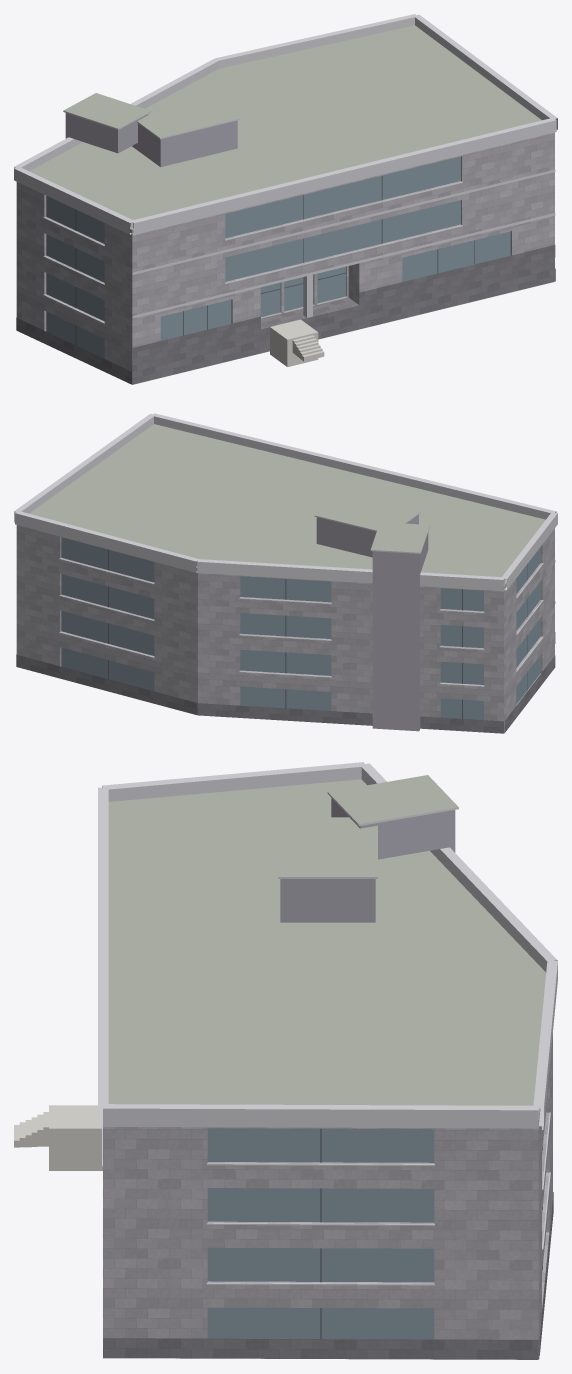
3 renders of one model, top to bottom at view 1: azimuth 30°, elevation 25°; view 2: azimuth 150°, elevation 25°; view 3: azimuth 270°, elevation 25°, orthographic. The views are drawn at different scales.
Parts seen in each view (by area): view 1: b125_1__roof, b125_1__wall, b125_1__glass, b125_1__trim, b125_1__base, b125_1__wall2, b125_1__entranceStair, b125_1__frame; view 2: b125_1__wall, b125_1__roof, b125_1__glass, b125_1__trim, b125_1__wall2, b125_1__base, b125_1__frame; view 3: b125_1__roof, b125_1__wall, b125_1__glass, b125_1__trim, b125_1__base, b125_1__wall2, b125_1__entranceStair.
Boxes of the visible parts, x1,y1,x2,y2 form: b125_1__roof: [29, 25, 554, 384]; b125_1__wall: [16, 132, 554, 384]; b125_1__glass: [46, 156, 510, 358]; b125_1__trim: [14, 14, 557, 323]; b125_1__base: [16, 245, 555, 384]; b125_1__wall2: [65, 113, 237, 167]; b125_1__entranceStair: [270, 319, 324, 366]; b125_1__frame: [75, 175, 474, 345]; b125_1__wall: [16, 525, 554, 732]; b125_1__roof: [29, 424, 545, 733]; b125_1__glass: [61, 537, 540, 720]; b125_1__trim: [14, 413, 557, 686]; b125_1__wall2: [316, 514, 428, 731]; b125_1__base: [16, 632, 555, 733]; b125_1__frame: [108, 549, 527, 718]; b125_1__roof: [108, 775, 546, 1359]; b125_1__wall: [103, 1033, 552, 1358]; b125_1__glass: [207, 1128, 434, 1339]; b125_1__trim: [98, 762, 557, 1285]; b125_1__base: [103, 1192, 553, 1359]; b125_1__wall2: [280, 798, 455, 922]; b125_1__entranceStair: [14, 1105, 102, 1170].
Size of the model in its own units: 45 by 17.85 by 29.71.
Materials: 10 (2 with a texture image).
